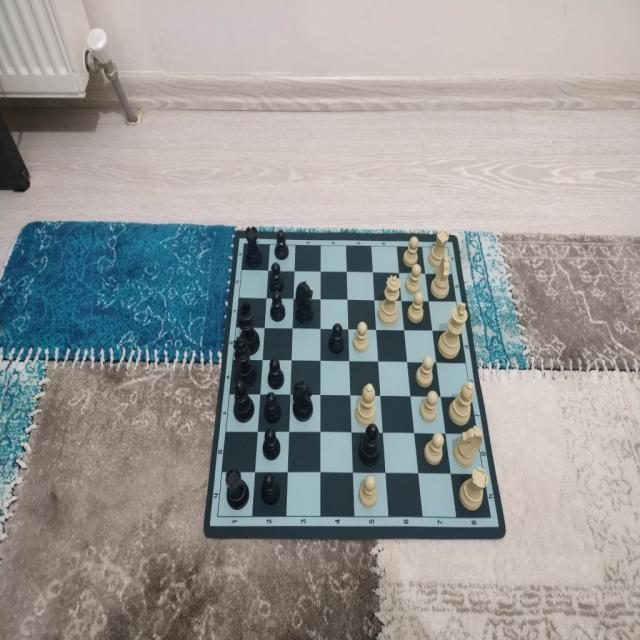chess-table-corners: (208, 508, 225, 532), (486, 512, 502, 536), (235, 234, 248, 249), (446, 238, 456, 252)
